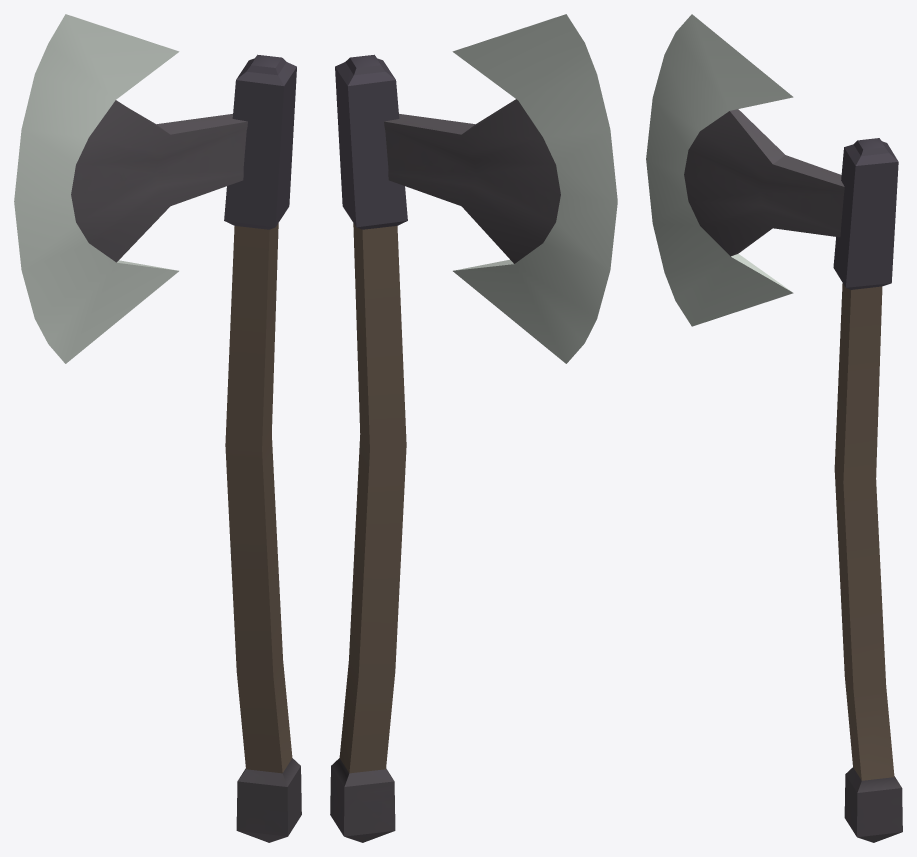
Rendered from Axe_1.fbx.
3 renders of one model, left to right at view 1: azimuth 30°, elevation 25°; view 2: azimuth 150°, elevation 25°; view 3: azimuth 330°, elevation 25°, orthographic. The views are drawn at different scales.
Parts seen in each view (by area): view 1: polySurface190; view 2: polySurface190; view 3: polySurface190.
Boxes of the visible parts, x1,y1,x2,y2 form: polySurface190: (14,14,301,842); polySurface190: (330,14,617,842); polySurface190: (646,14,902,842).
Bounding box in the file's own units: 86.73 × 253 × 19.69.
